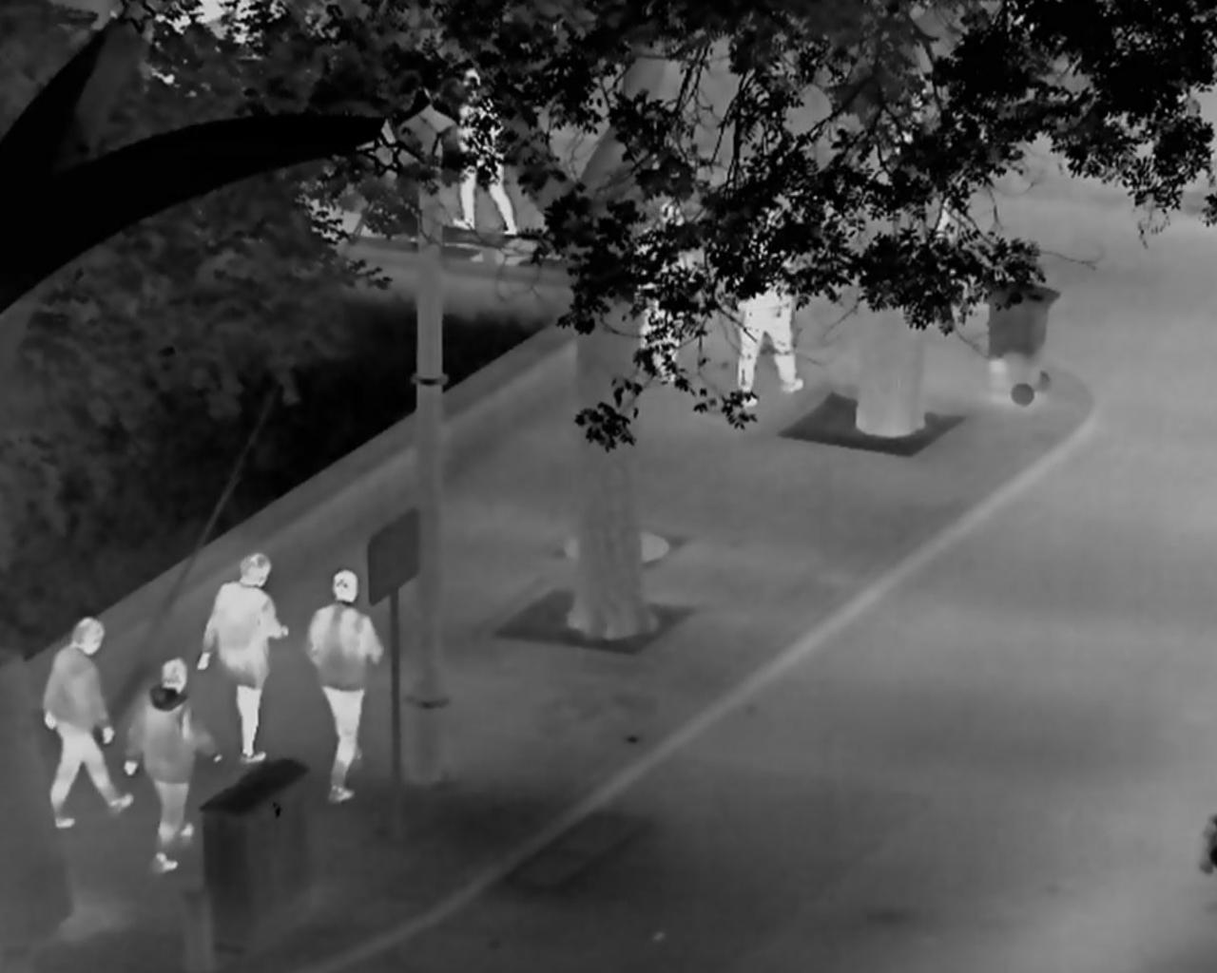person: (122, 657, 224, 874), (195, 551, 290, 766), (41, 614, 136, 829), (303, 568, 384, 805), (731, 202, 811, 411), (448, 67, 523, 234), (629, 199, 693, 388)
